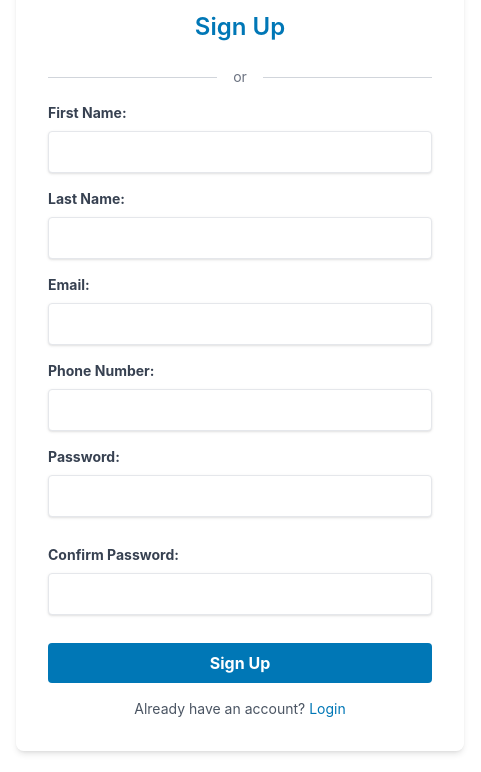
Test: Signup › handles registration failure
Type "John" into the field labelled "First Name:" at (240, 152), box [48,131,432,173]
Type "Doe" into the field labelled "Last Name:" at (240, 238), box [48,217,432,259]
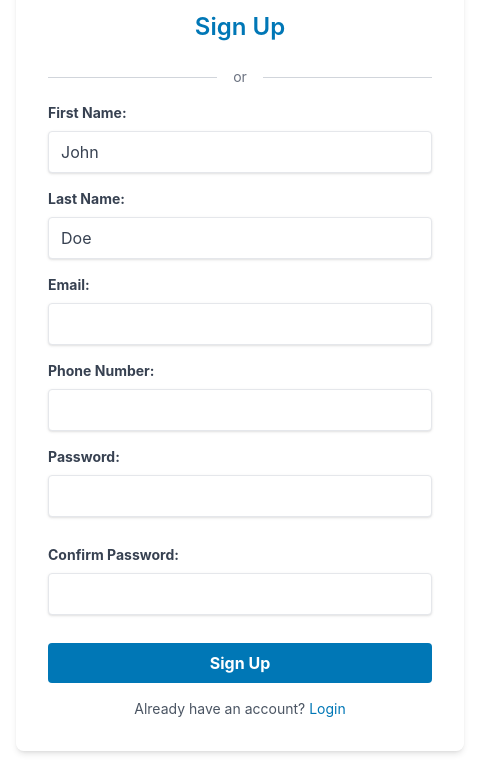
Type "john.doe@example.com" into the field labelled "Email:" at (240, 324), box [48,303,432,345]
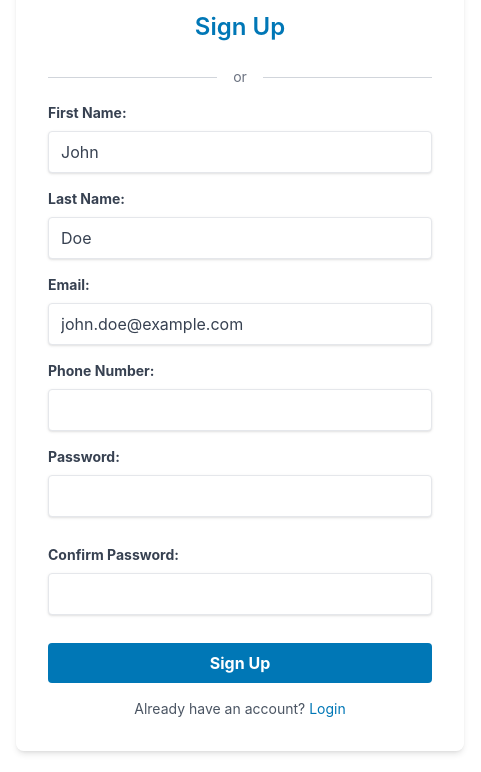
Type "+254700000000" into the field labelled "Phone Number:" at (240, 410), box [48,389,432,431]
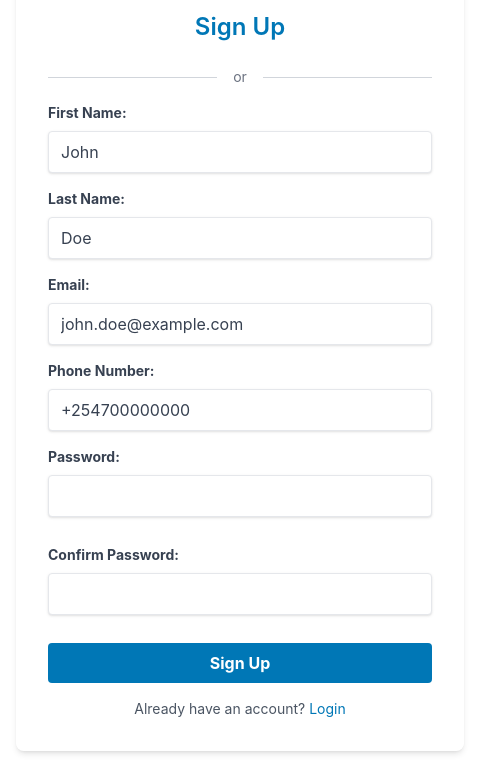
Type "password123" into the password field labelled "Password:" at (240, 496), box [48,475,432,517]
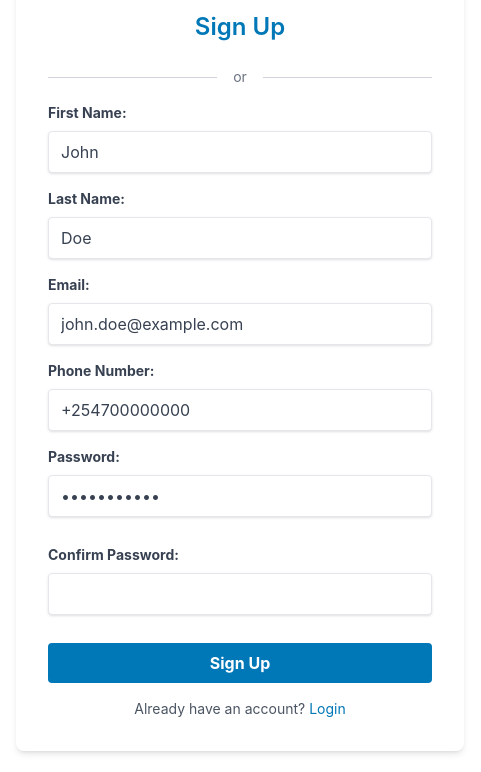
Type "password123" into the password field labelled "Confirm Password:" at (240, 594), box [48,573,432,615]
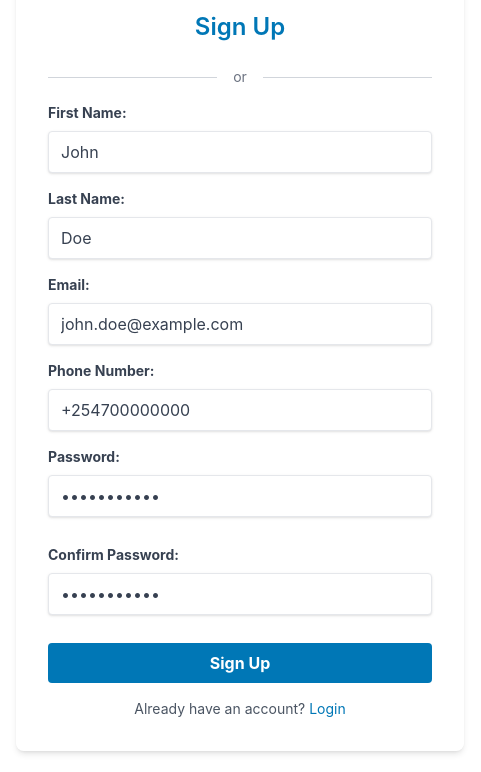
Click the button "Sign Up" at (240, 663), box [48,643,432,683]
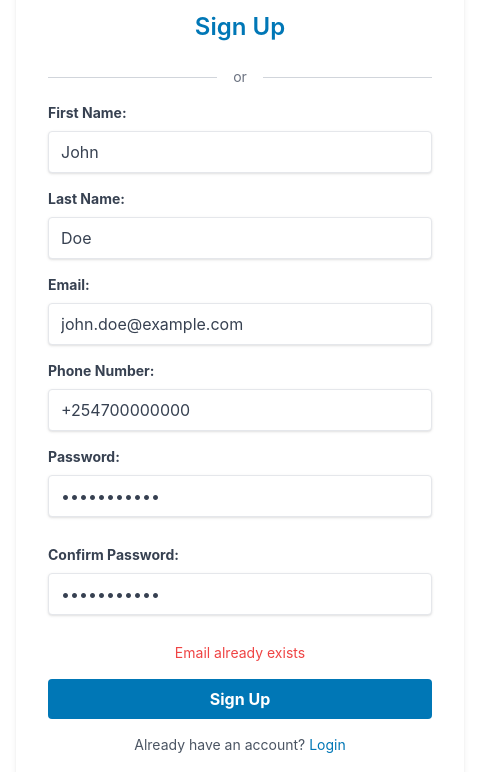
Expected: the text "Email already exists" is shown, [175,644,305,661]
